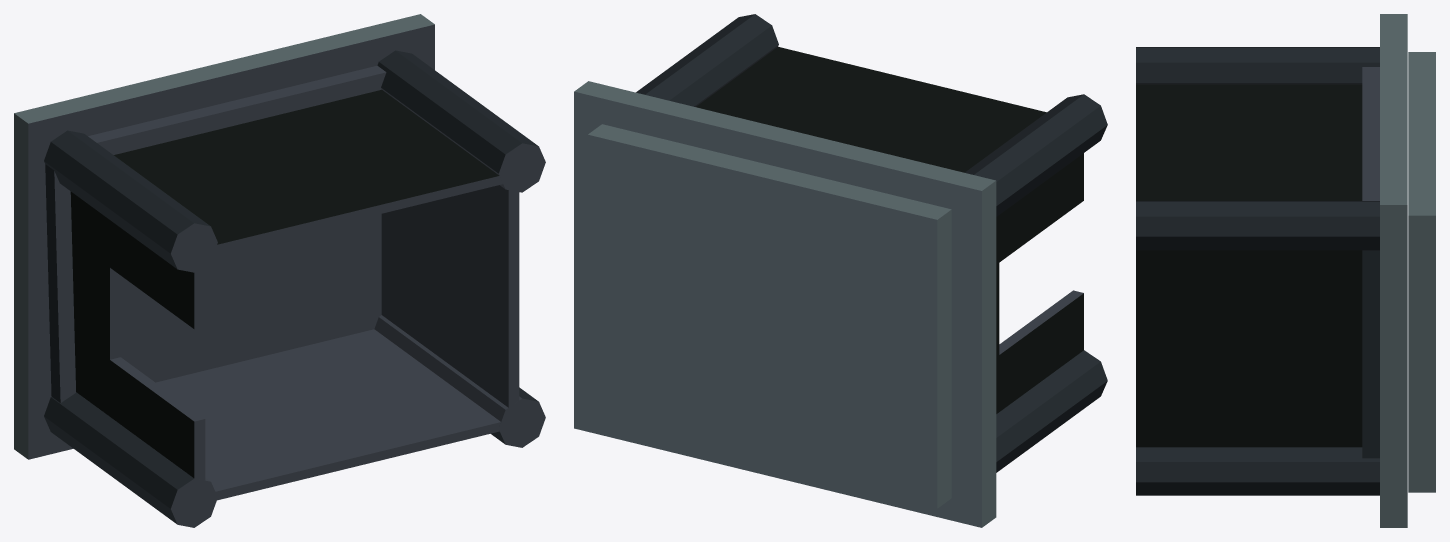
The model's file is mausoleofixfix.fbx.
3 views of the same model, side by side, from view 1: azimuth 30°, elevation 25°; view 2: azimuth 150°, elevation 25°; view 3: azimuth 270°, elevation 25° (orthographic). The views are drawn at different scales.
Parts seen in each view (by area): view 1: Cylinder; view 2: Cylinder; view 3: Cylinder.
Part boxes in pixels (x1,y1,x2,y2): Cylinder: (14,14,545,527); Cylinder: (574,14,1107,527); Cylinder: (1136,14,1435,527).
Size of the model in its own units: 517 by 408 by 343.
